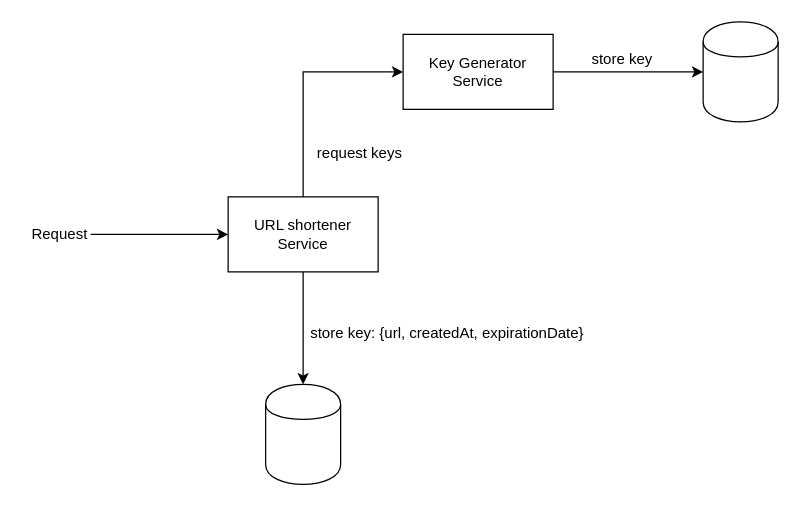
This 800x506 diagram has some shape labels left out. Here are the shapes that lost their labels. From the top down, the centre of each, then its label:
the point at 740,71: Postgres
the point at 302,433: Redis
